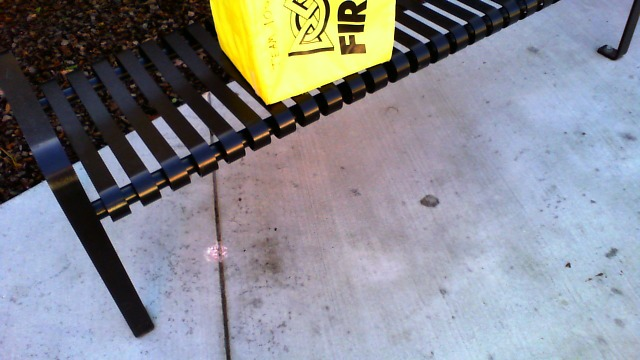cube: (206, 1, 397, 105)
